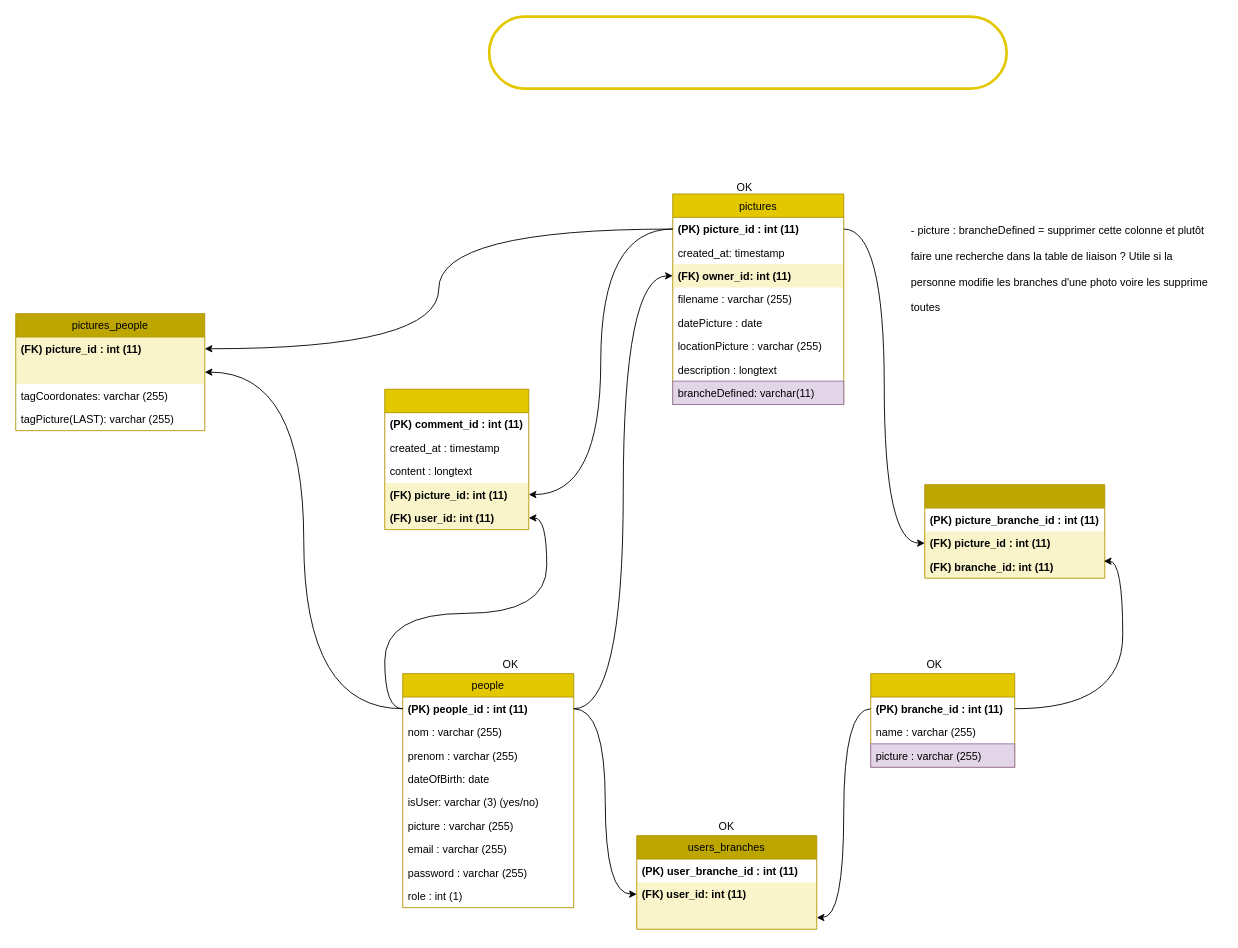
Some shapes in this 1238 by 948 pixel diagram are drawn without their labels. The shapes that lost their labels are listed below. From the top down, each one's box as (x1, y1, x2, y2) in pixels, then its label:
(487, 15, 1008, 90): Photos de Famille - Database
(15, 360, 204, 383): (FK) people_id: int (11)
(384, 388, 529, 530): comments
(924, 484, 1105, 578): pictures_branches
(870, 673, 1015, 767): branches
(636, 905, 816, 929): (FK) branche_id: int (2)
